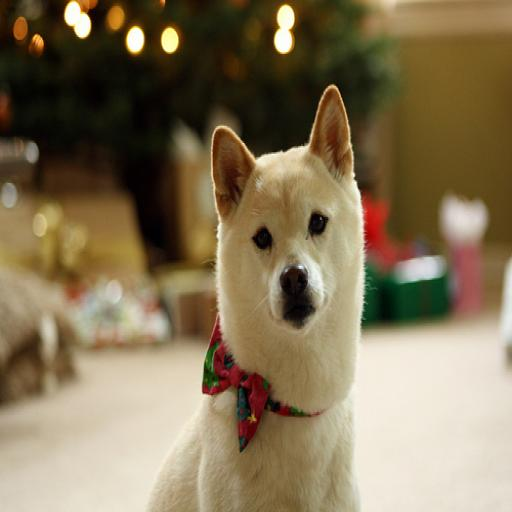dog_face: (207, 98, 358, 337)
